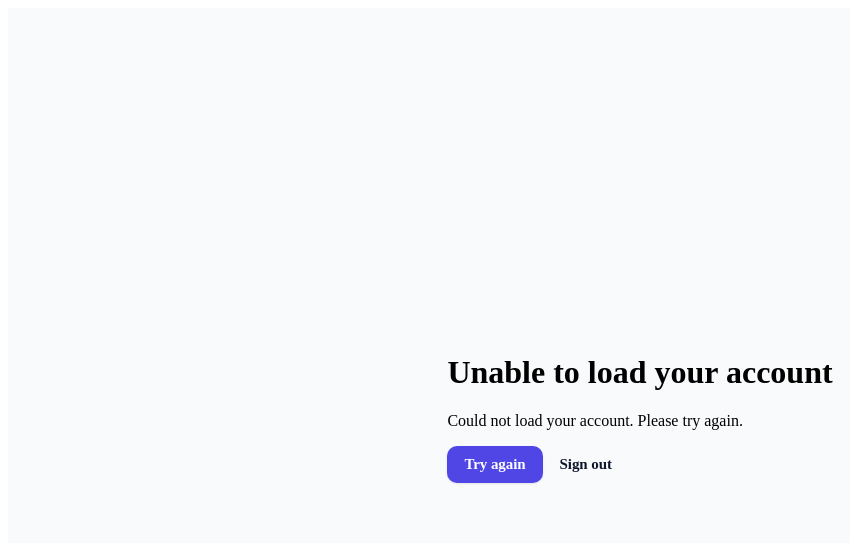
Scenario: account loading and protected routing › reports a failed sign-out and permits retry without pretending it succeeded
Click the button "Sign out": (586, 465) [542,446,629,483]
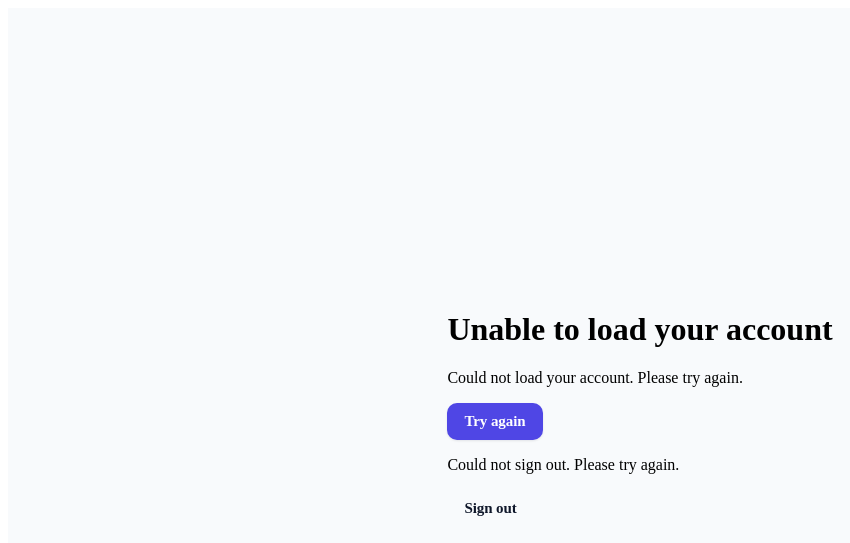
Expected: the text "Login screen" is not shown
Result: the text "Could not sign out. Please try again." is shown at [447,456,679,473]
Click the button "Sign out": (491, 508) [447,490,534,527]
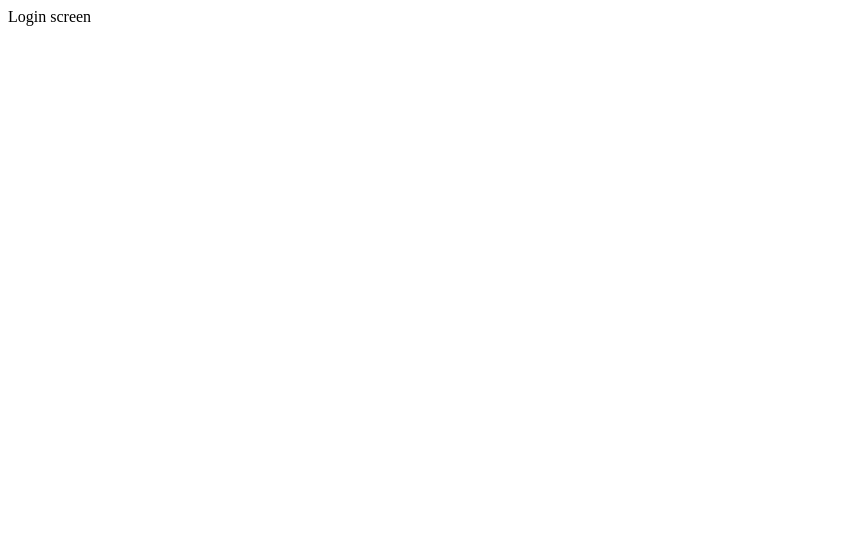
Result: the text "Login screen" is shown at [8,8,91,25]
